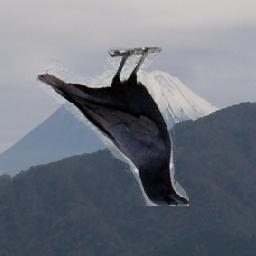Crow: (37, 48, 190, 207)
